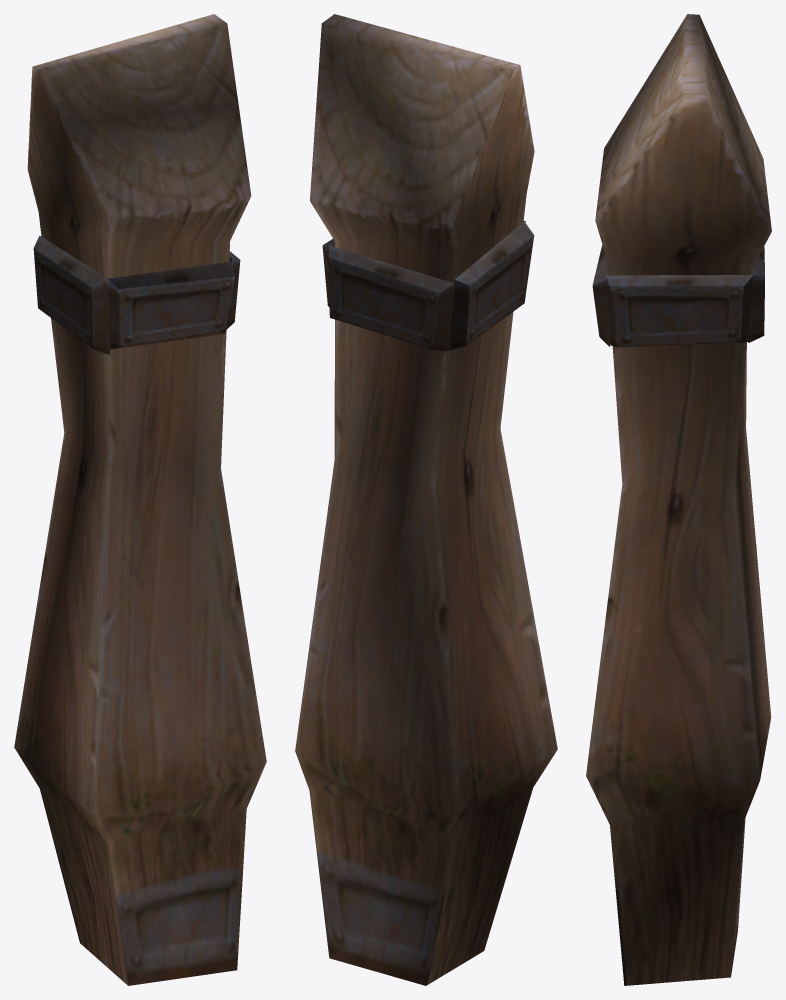
Rendered from hu_fencepost_northrend.obj.
3 renders of one model, left to right at view 1: azimuth 30°, elevation 25°; view 2: azimuth 150°, elevation 25°; view 3: azimuth 270°, elevation 25°, orthographic. The views are drawn at different scales.
Visible parts, largest first — view 1: HU_FENCEPOST_NORTHREND0, HU_FENCEPOST_NORTHREND1; view 2: HU_FENCEPOST_NORTHREND0, HU_FENCEPOST_NORTHREND1; view 3: HU_FENCEPOST_NORTHREND0, HU_FENCEPOST_NORTHREND1.
Part boxes in pixels (x1,y1,x2,y2): HU_FENCEPOST_NORTHREND0: (14, 14, 266, 985); HU_FENCEPOST_NORTHREND1: (33, 235, 240, 355); HU_FENCEPOST_NORTHREND0: (295, 14, 557, 985); HU_FENCEPOST_NORTHREND1: (322, 221, 534, 351); HU_FENCEPOST_NORTHREND0: (586, 14, 771, 985); HU_FENCEPOST_NORTHREND1: (592, 245, 764, 347).
Size of the model in its own units: 0.4596 by 2.17 by 0.4078.
2 materials, 2 textured.
